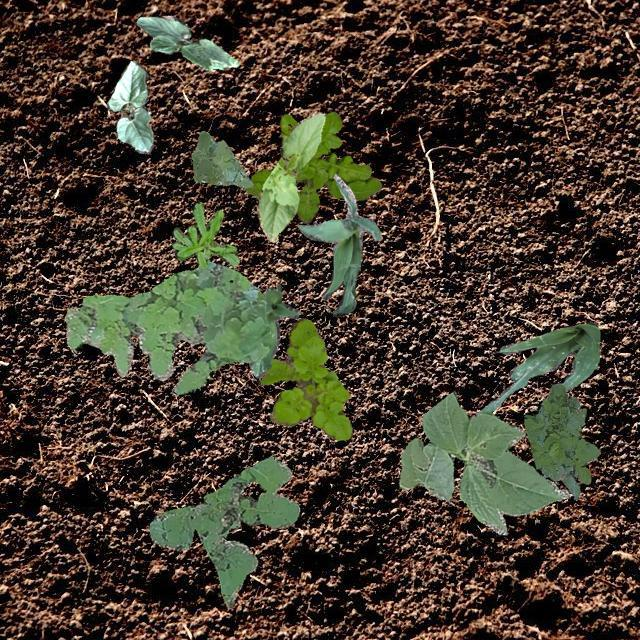crop: (398, 389, 568, 534), (296, 172, 381, 316), (474, 320, 598, 416), (256, 110, 324, 242), (136, 15, 238, 70), (250, 283, 300, 377), (106, 59, 152, 152)
weed: (64, 261, 272, 394), (148, 456, 298, 606), (244, 110, 380, 222), (258, 316, 352, 439), (522, 382, 598, 498), (172, 200, 238, 268), (190, 130, 252, 187)
